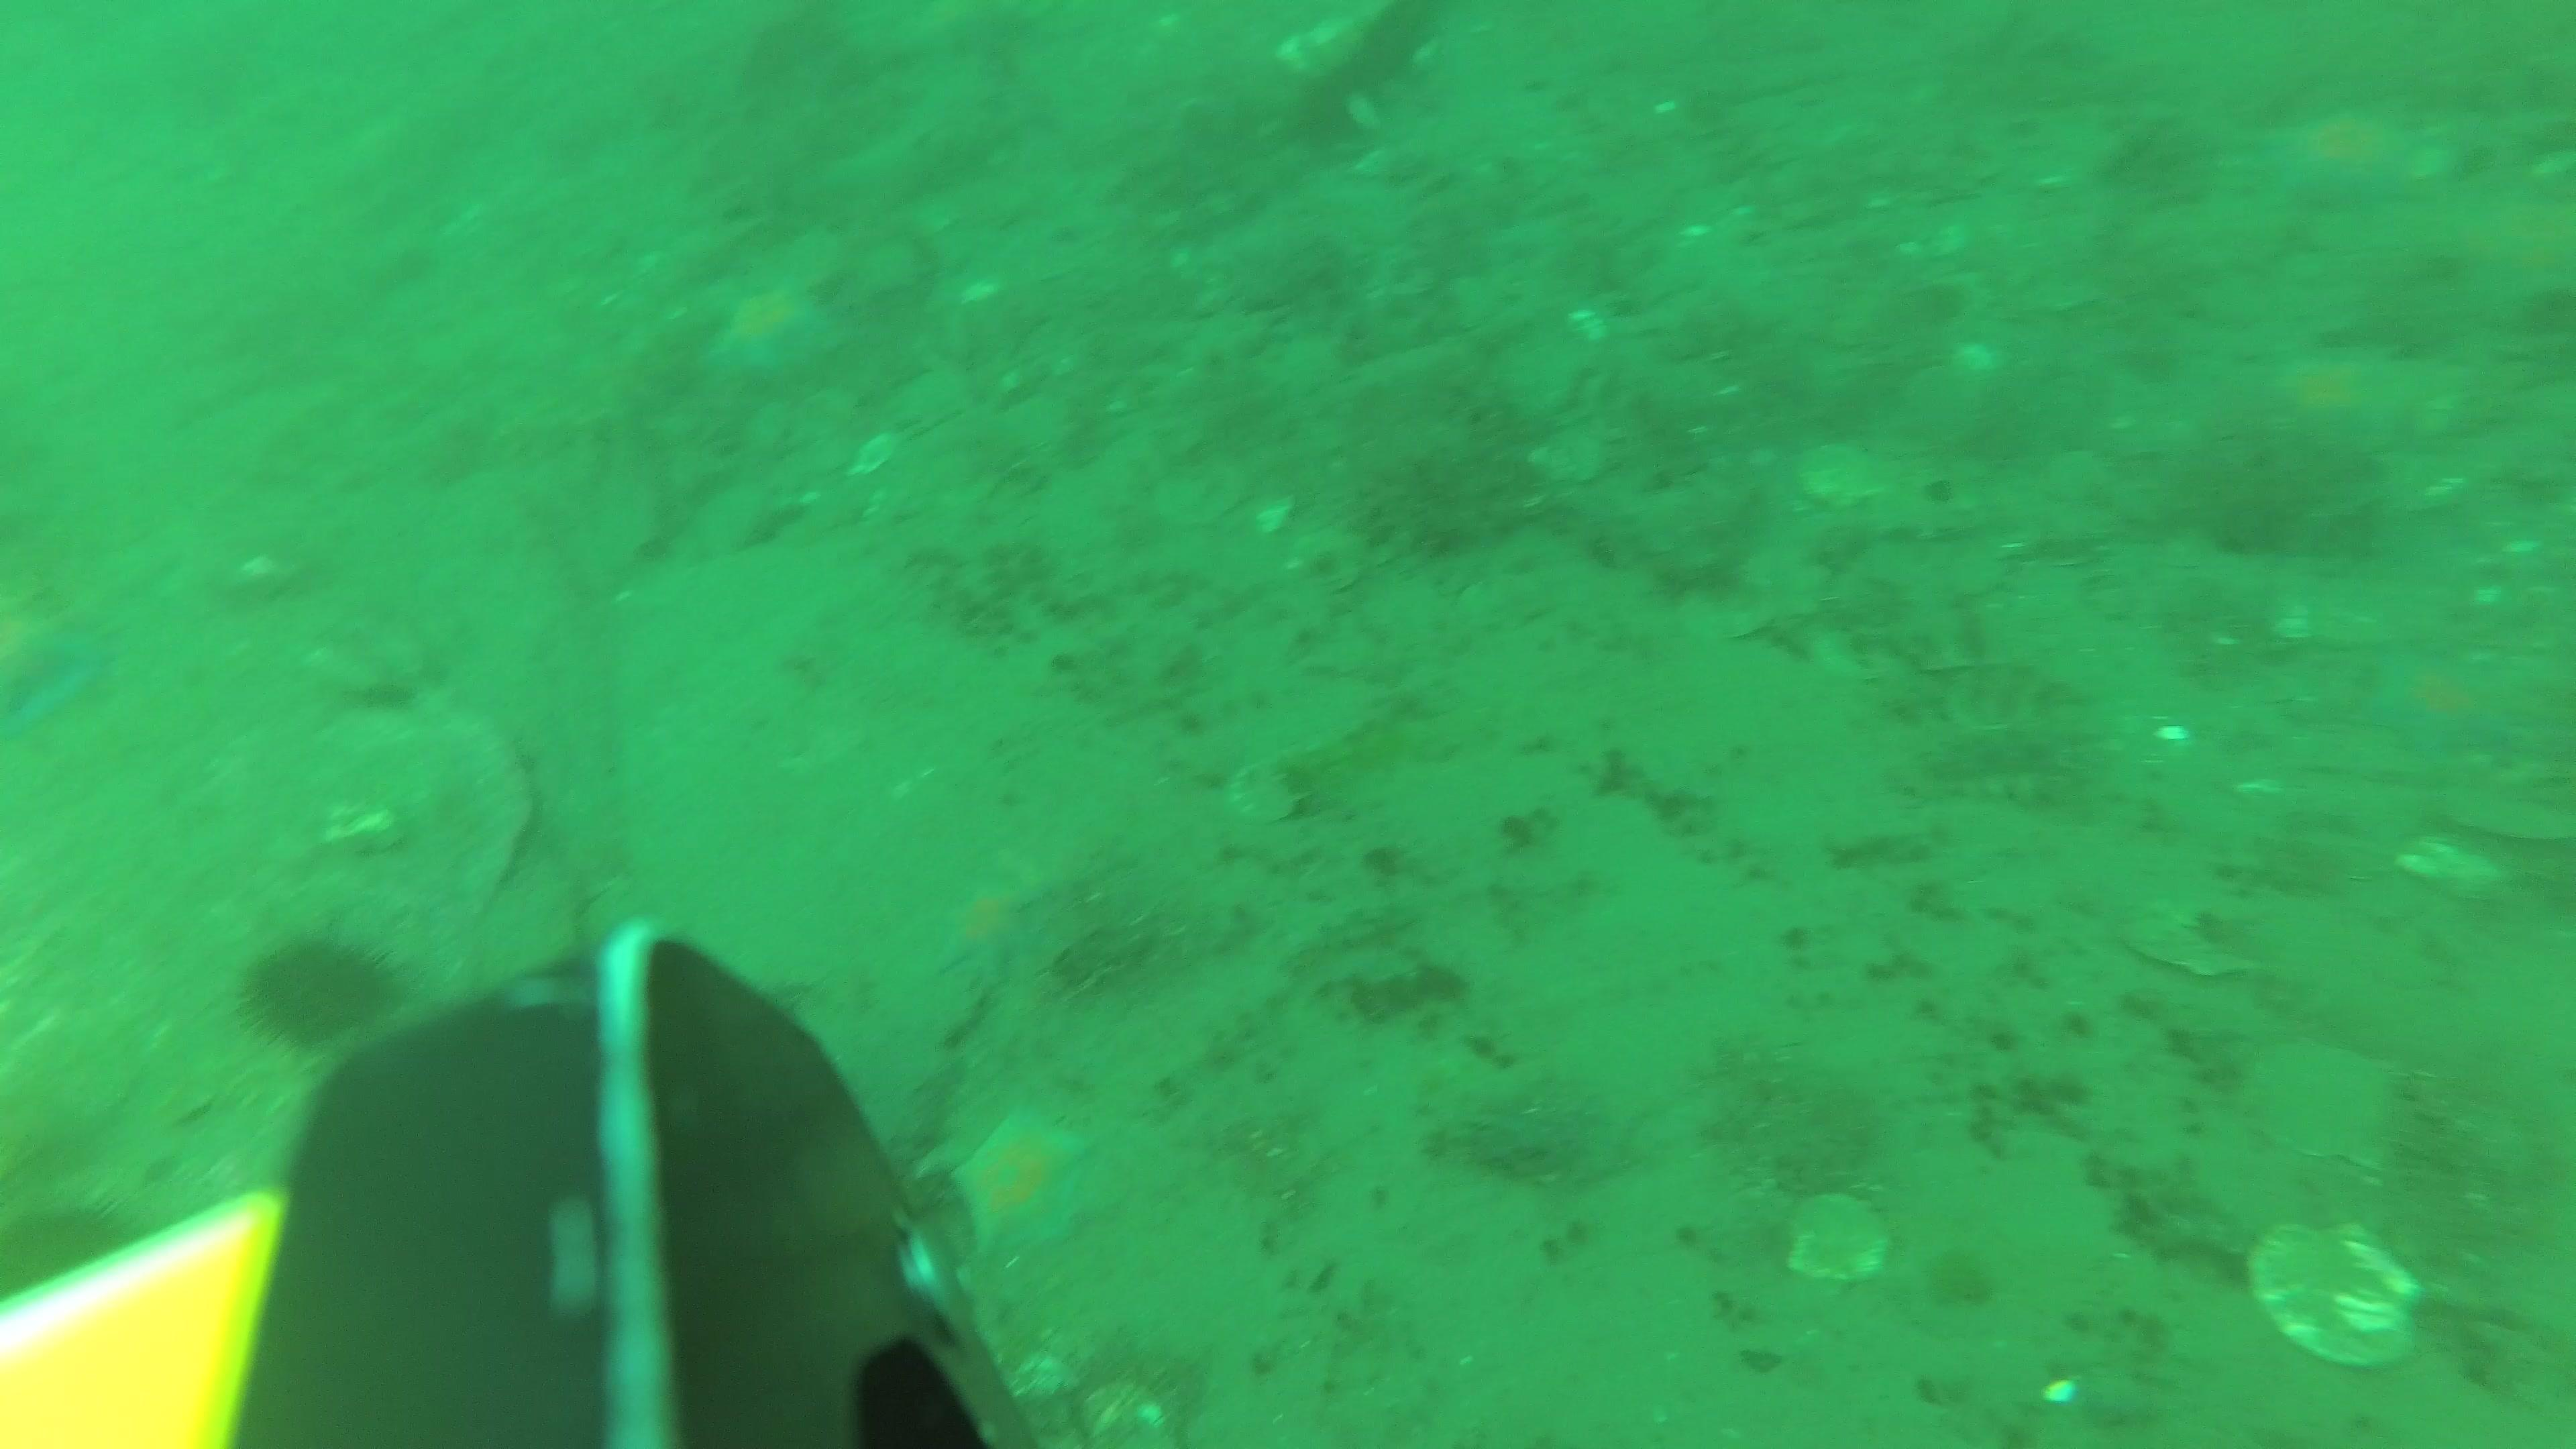echinus: (226, 929, 416, 1063)
holothurian: (1914, 692, 2093, 812)
scallop: (2249, 1215, 2424, 1371), (2250, 1033, 2419, 1175), (2127, 893, 2275, 984), (1780, 1189, 1890, 1286), (1079, 1376, 1184, 1449), (1226, 761, 1318, 824)
starfish: (954, 1106, 1099, 1269), (2263, 341, 2410, 455), (2273, 103, 2420, 212), (2376, 653, 2519, 759), (0, 614, 104, 743), (718, 283, 846, 387), (943, 879, 1044, 996)
